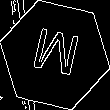M_S: (27, 25, 83, 85)
